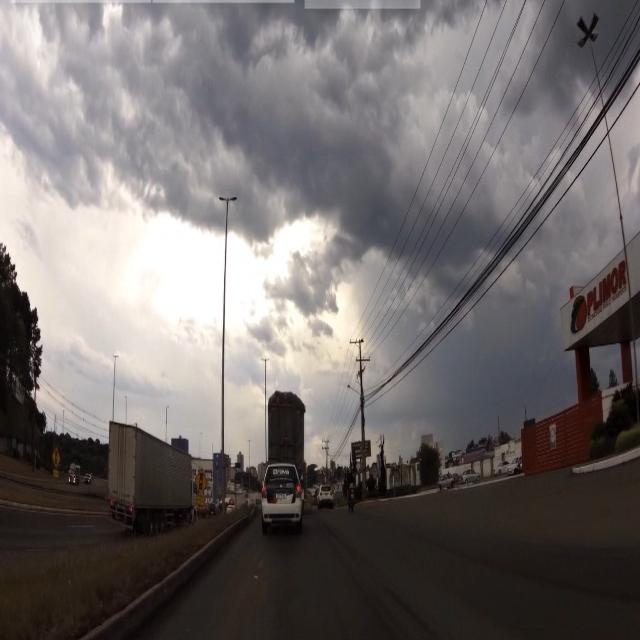A-14: (194, 467, 207, 494)
